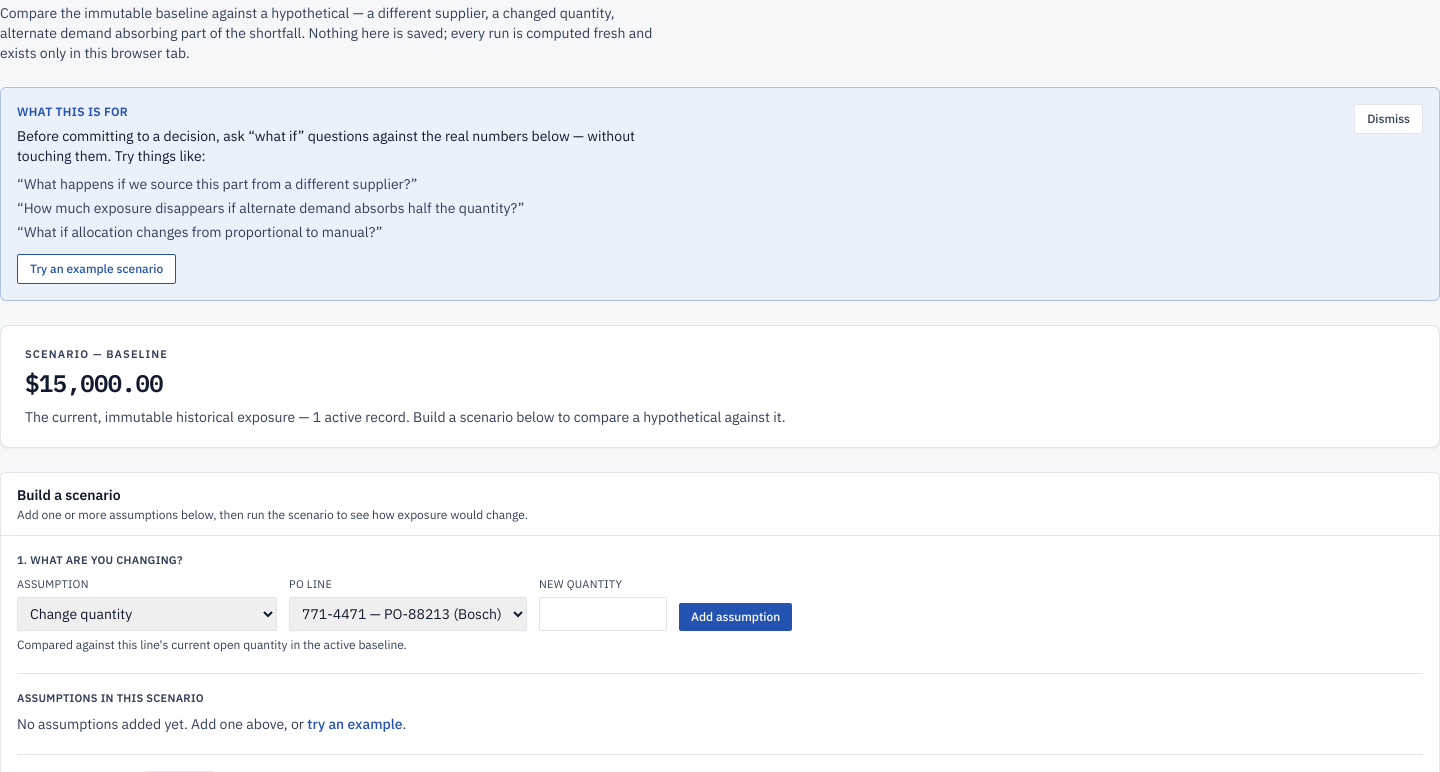
Test: ExposureExplorerClient › surfaces scenario gaps distinctly when the scenario result includes them
Type "400" into the number field labelled "New quantity". click: (603, 614)
box: [539,596,667,630]
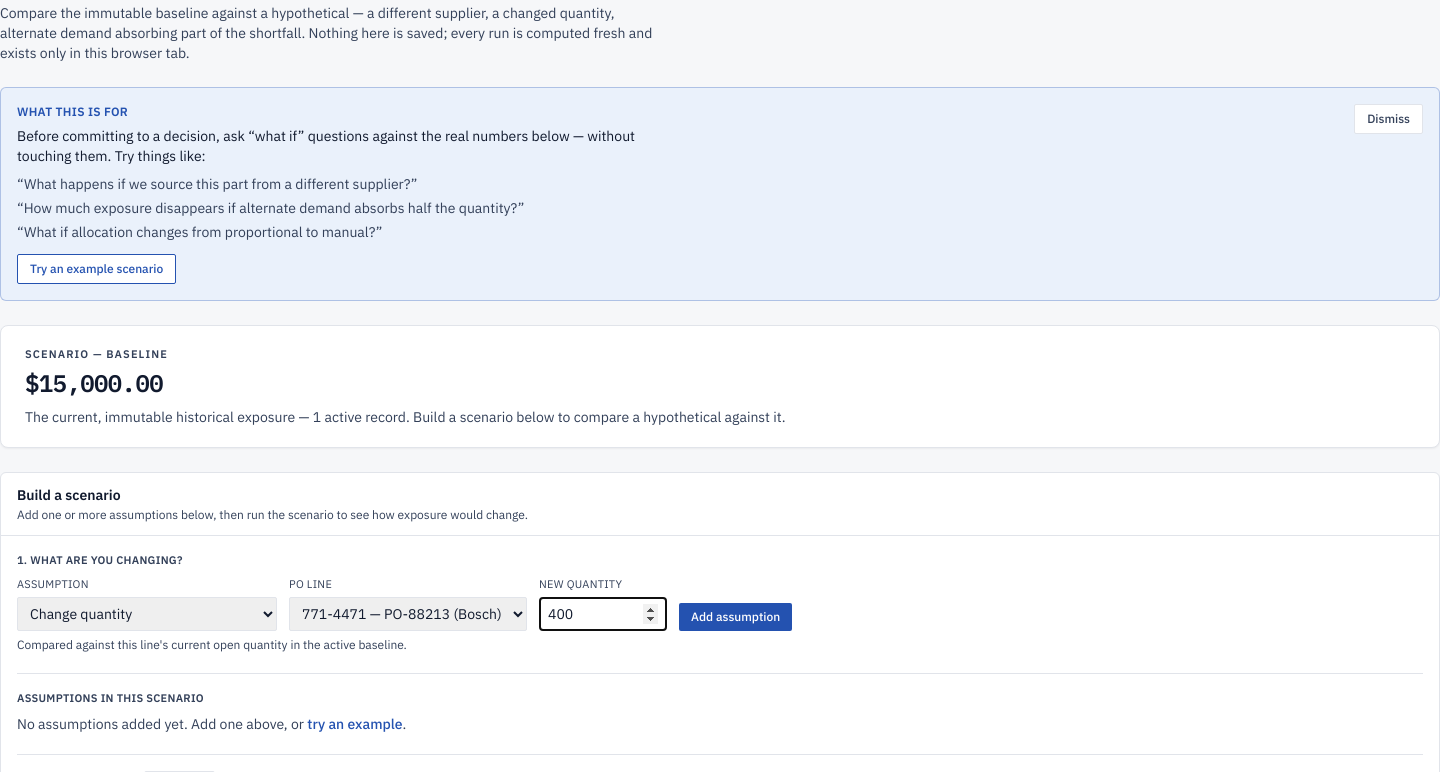
Click the button "Add assumption". click: (736, 616)
box: [679,602,792,630]
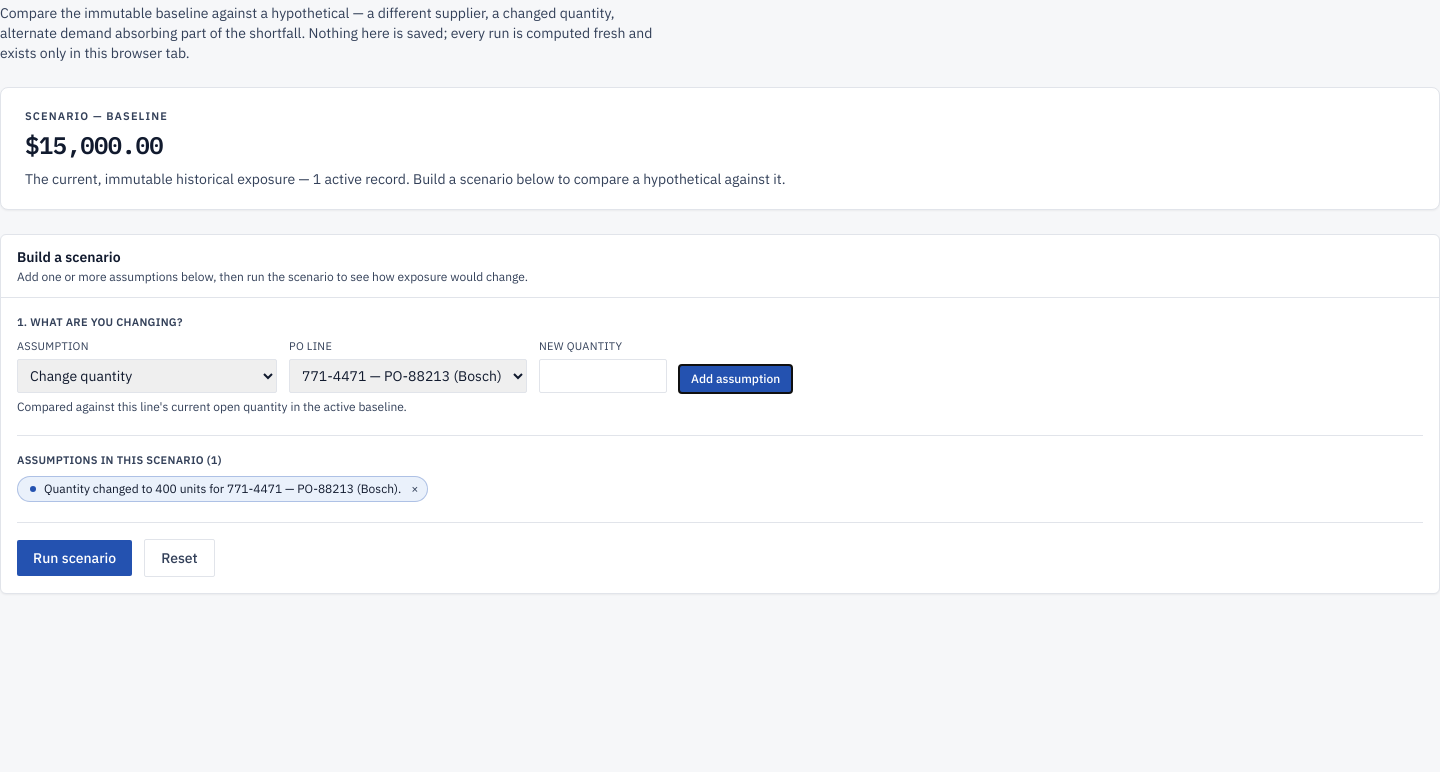
Click the button "Run scenario". click: (75, 558)
box: [17,540,132,576]
(page scrolled)
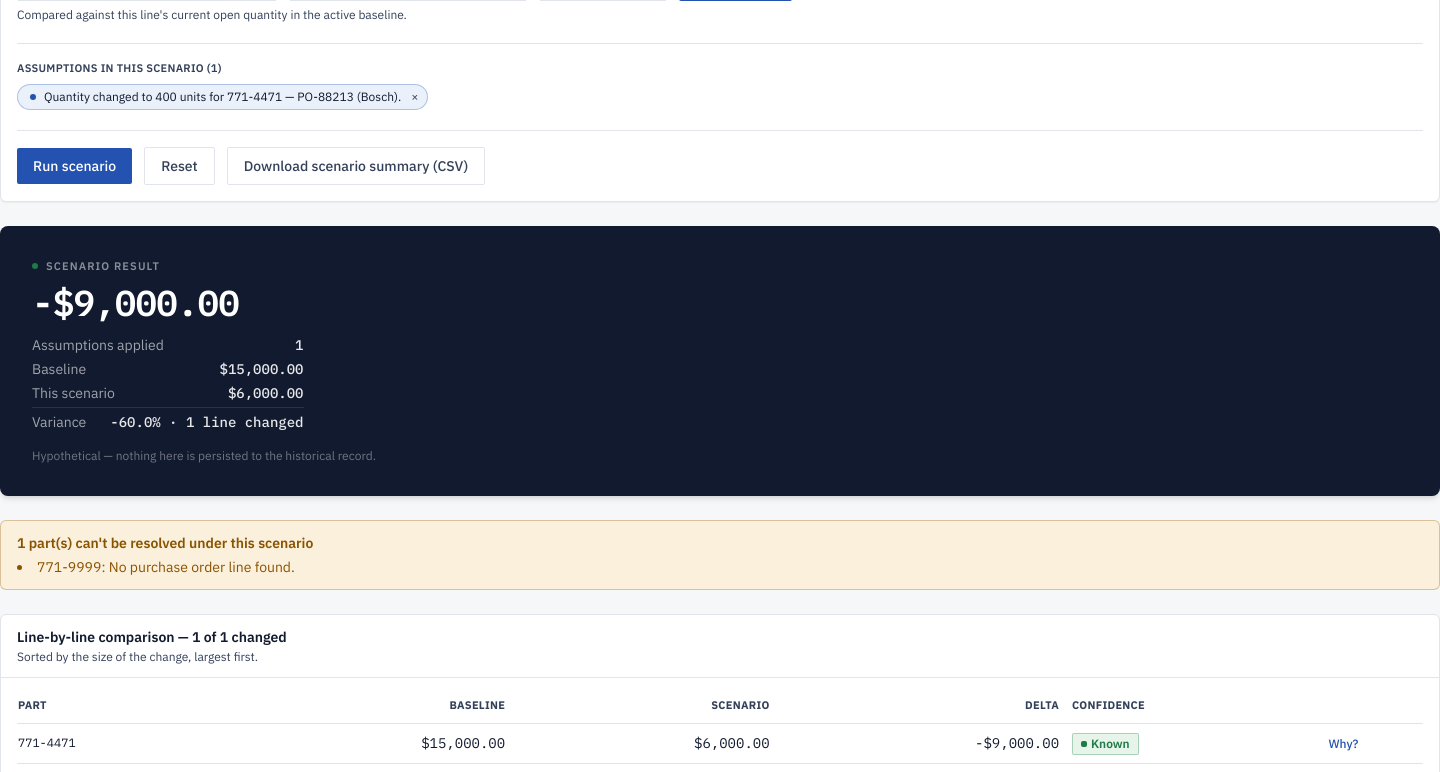
Check: the text "1 part(s) can't be resolved under this scenario" is shown, box [17,534,313,552]
Check: the list item "771-9999: No purchase order line found." is shown, box [37,558,295,576]
